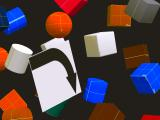Right: (28, 40, 82, 112)
